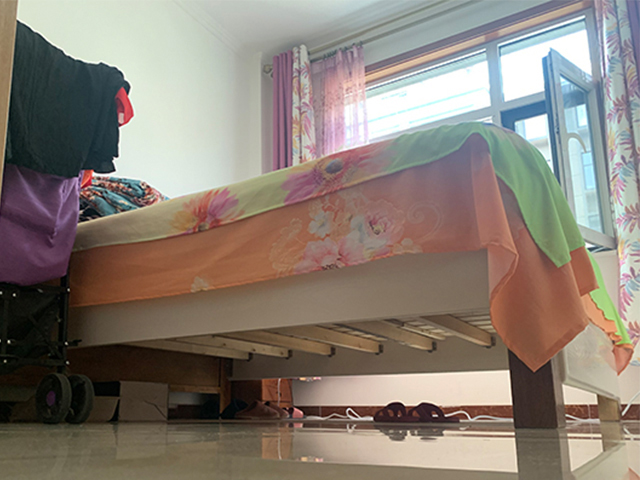bed: (61, 119, 636, 428)
curtain: (589, 1, 640, 377)
slippers: (216, 400, 279, 421), (373, 401, 422, 423), (417, 403, 466, 425)
wire: (305, 400, 368, 425), (458, 412, 511, 423)
